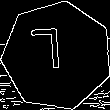L_S: (39, 30, 75, 82)
